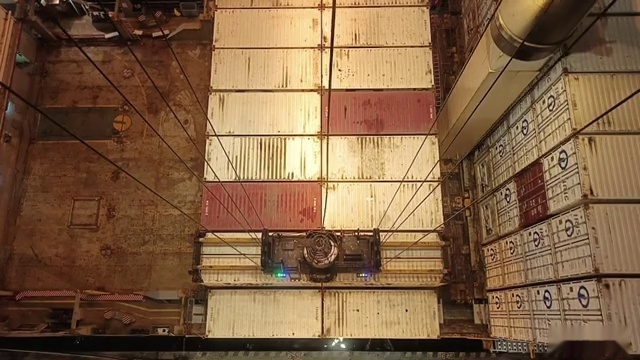container: (194, 228, 449, 286), (197, 181, 446, 230), (204, 289, 443, 340), (202, 135, 439, 182), (207, 46, 434, 93), (205, 92, 436, 135), (210, 5, 434, 47)
guide_mark: (99, 332, 543, 348), (62, 349, 562, 360)
spreader: (184, 223, 457, 287)
target_slot: (182, 223, 457, 289)
